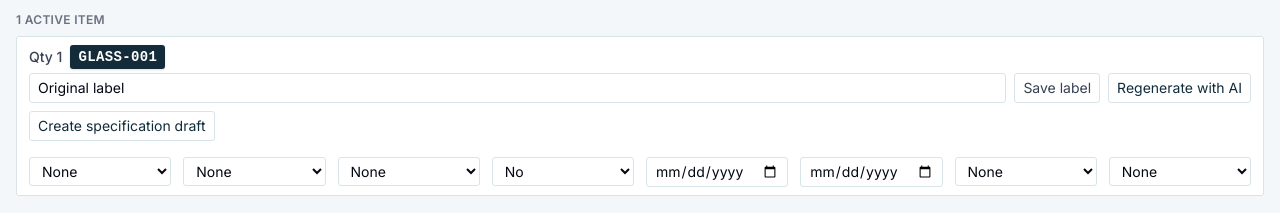
Scenario: WorkOrderItemsSummary › saves a manually edited label and shows visible success feedback
Replace the text in the field named "Short label for GLASS-001" with "Updated production label" at [518, 88], box top-left (29, 73), bottom-right (1006, 103)
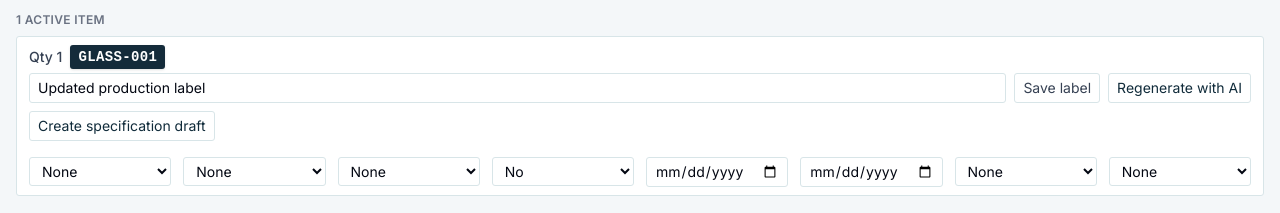
Click the button "Save label".
click(1057, 88)  # box top-left (1014, 73), bottom-right (1100, 103)
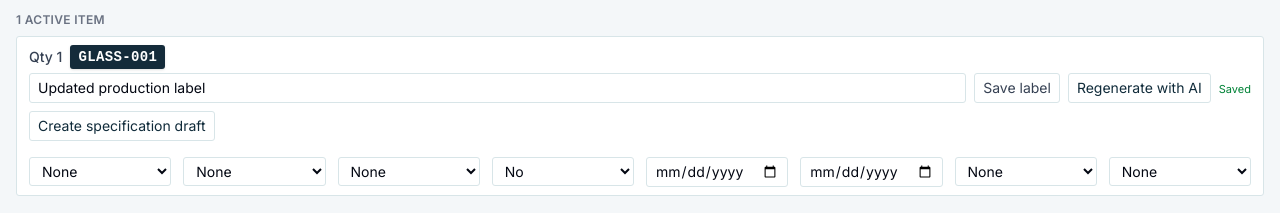
Result: the text "Saved" is shown at top-left (1219, 82), bottom-right (1251, 98)
